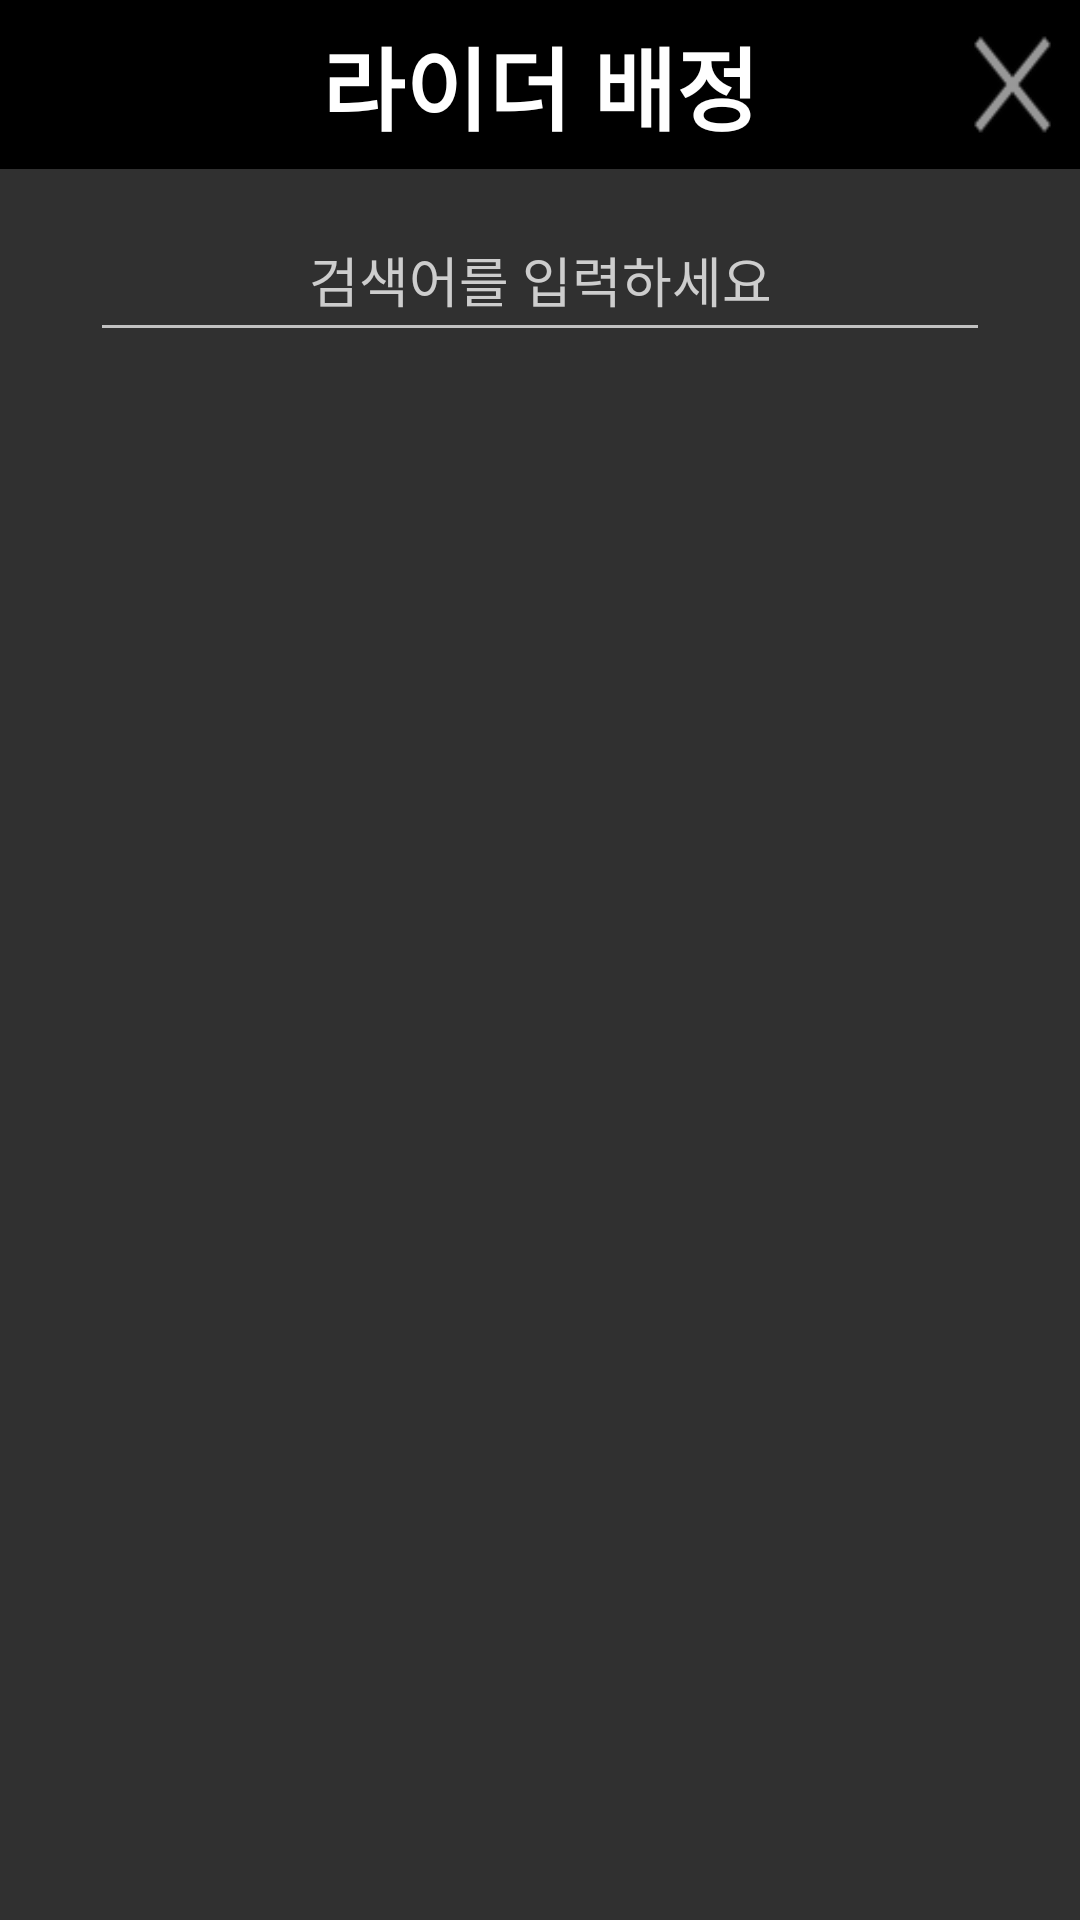

Screen size 1080*1920. Icon name, then its box in pixels as (x1, y1, x2, y2):
close clear cancel: (974, 37, 1051, 132)
